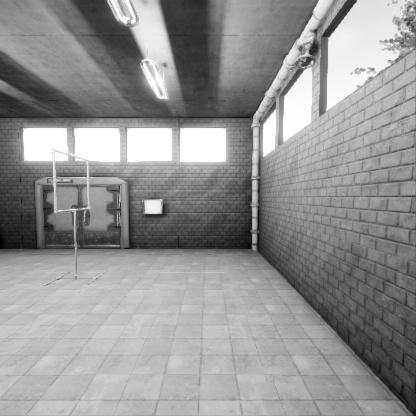gate: (51, 205, 90, 270)
